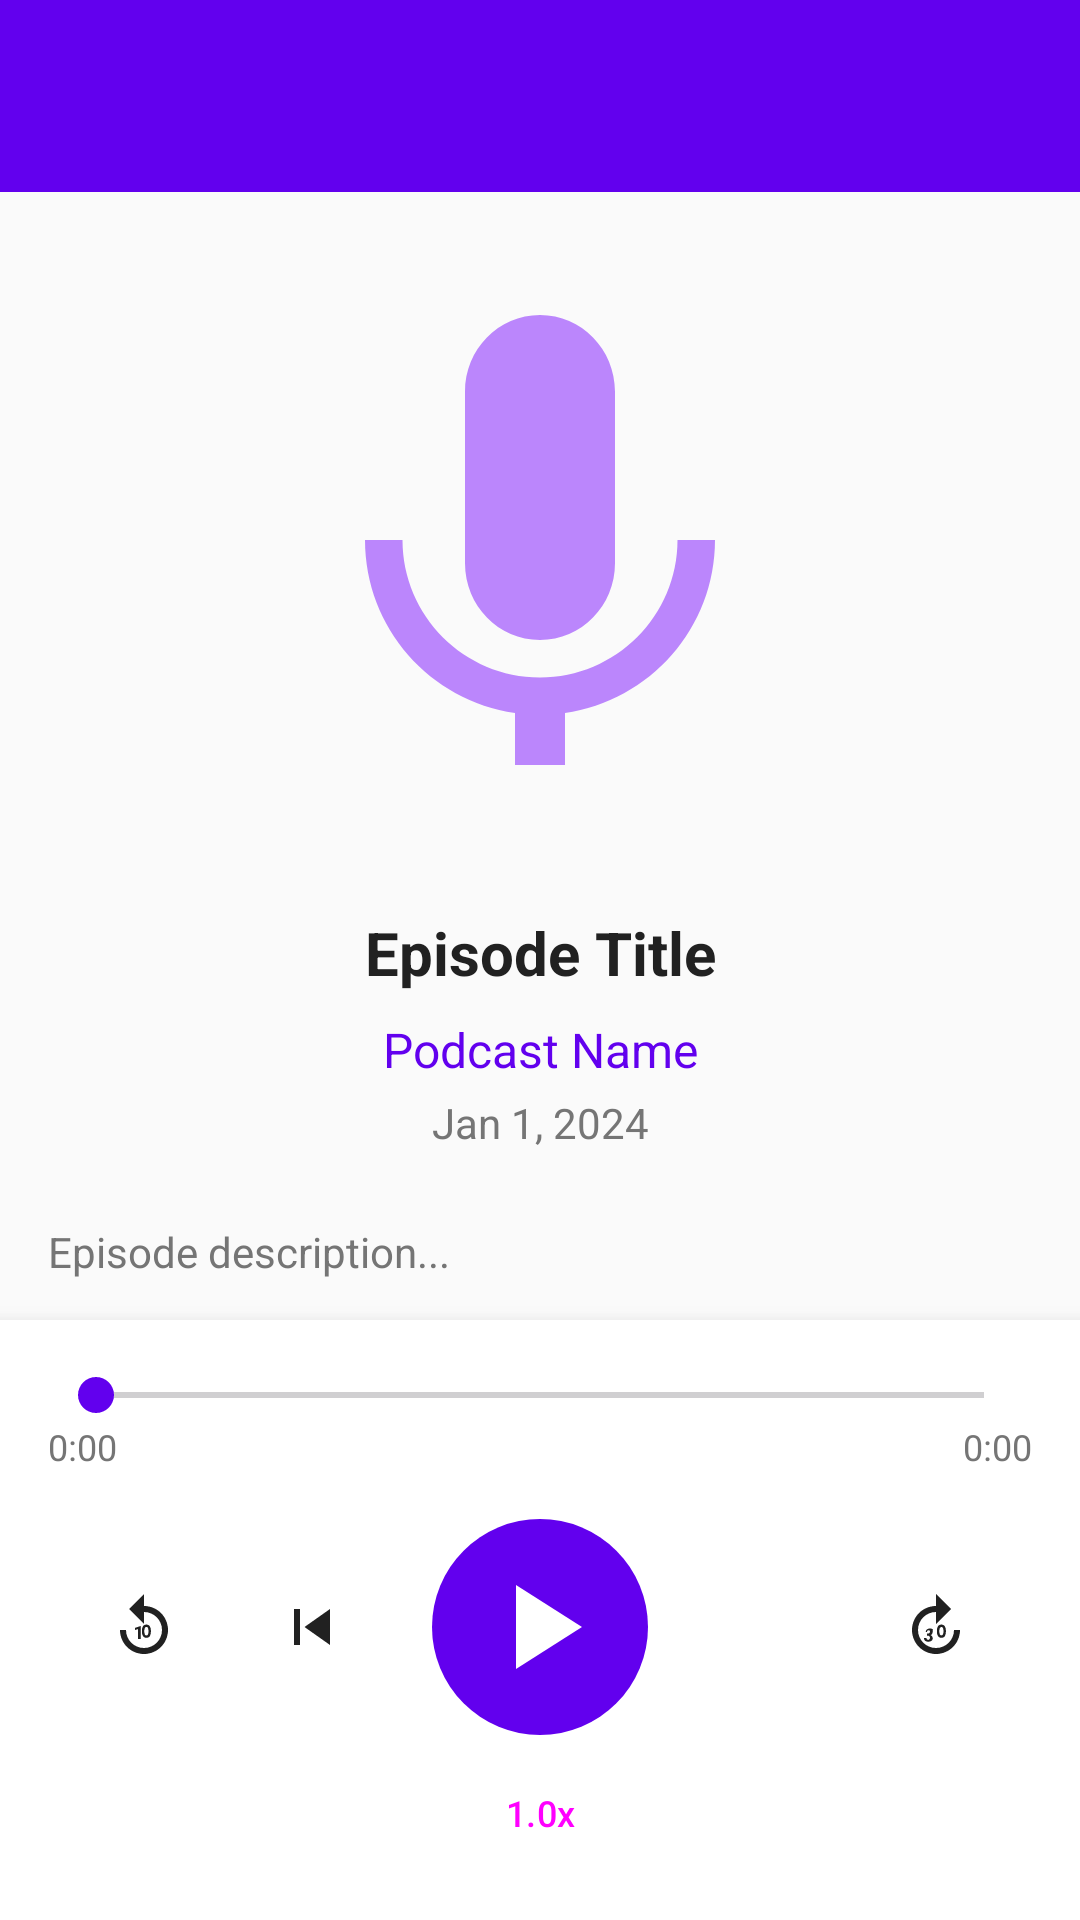

Icon click points for this 1080 x 1920 phone screenshot, format point (x, y):
Forward 30 seconds: point (936, 1624)
Play/Pause: point (540, 1627)
Rewind 10 seconds: point (144, 1624)
Skip Back: point (312, 1627)
